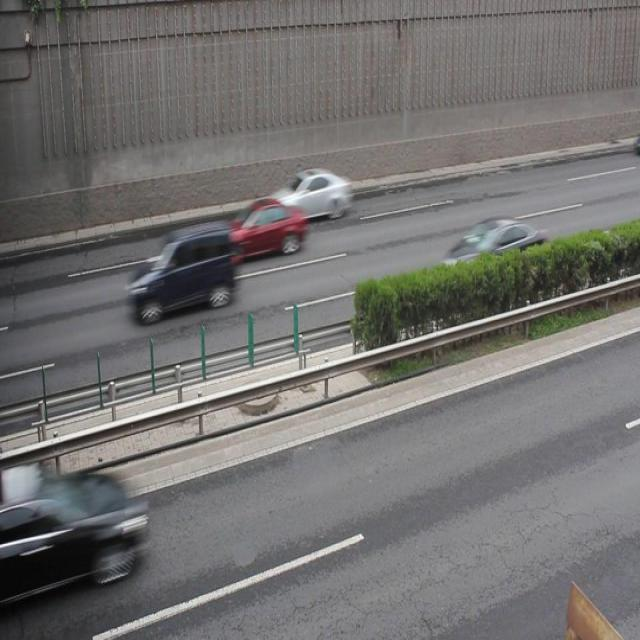car: (10, 462, 145, 598), (445, 217, 544, 290), (227, 197, 305, 264), (268, 167, 352, 224)
truck: (128, 220, 234, 319)
